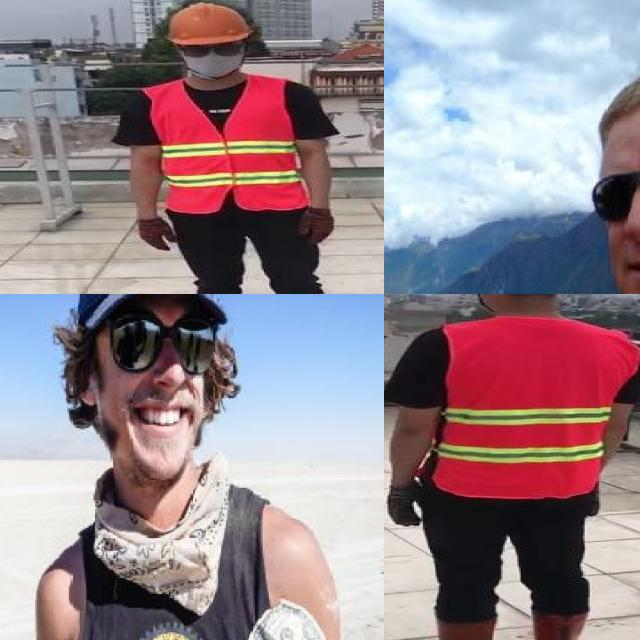boots: (515, 609, 588, 640), (405, 617, 495, 640)
face_mask: (178, 38, 245, 77)
face_nomask: (106, 307, 213, 442), (595, 165, 640, 294)
glasses: (81, 297, 229, 371), (589, 157, 640, 225), (174, 40, 247, 60)
hand_glove: (384, 487, 424, 527), (134, 217, 177, 251), (298, 209, 333, 245), (585, 485, 606, 517)
head_helmet: (165, 0, 257, 45)
head_nohelmet: (71, 294, 232, 328), (592, 60, 640, 142)
person: (33, 294, 358, 640), (384, 294, 640, 640), (110, 0, 369, 294)
vest: (432, 319, 638, 498), (146, 78, 308, 212)
